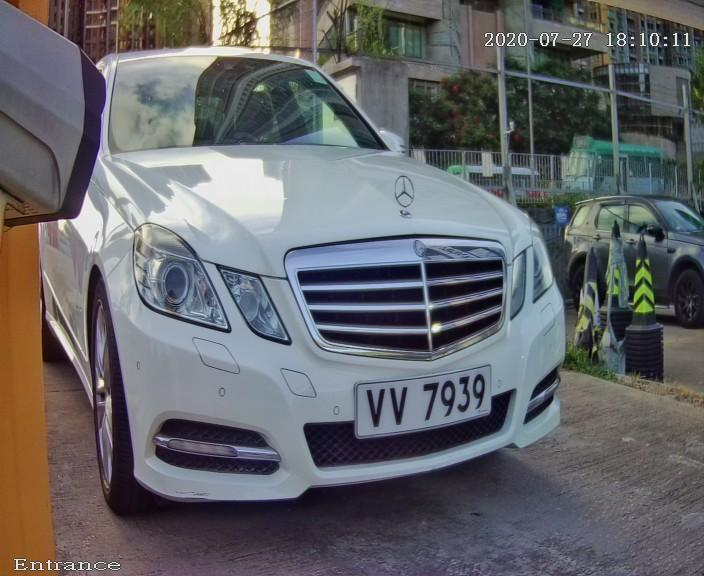privatecar: (38, 16, 617, 533)
